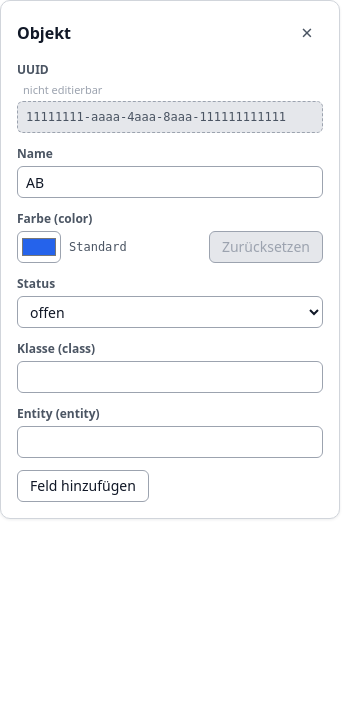
it: Sidebar › live changes › keeps the cursor where it is when typing in the middle of the text
This screenshot has width=357, height=701.
Click the field labelled "Name": {"x": 170, "y": 182} top-left (17, 166), bottom-right (323, 198)
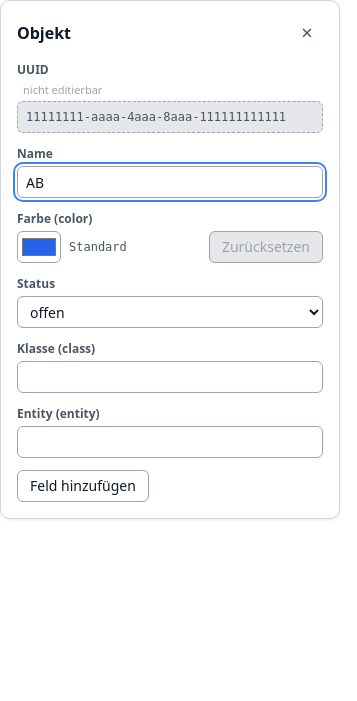
Type keys "x "
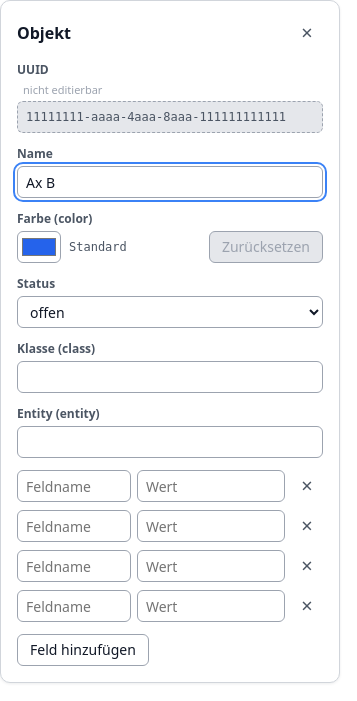
expect the field labelled "Name" holds "Ax B": met, box top-left (17, 166), bottom-right (323, 198)
